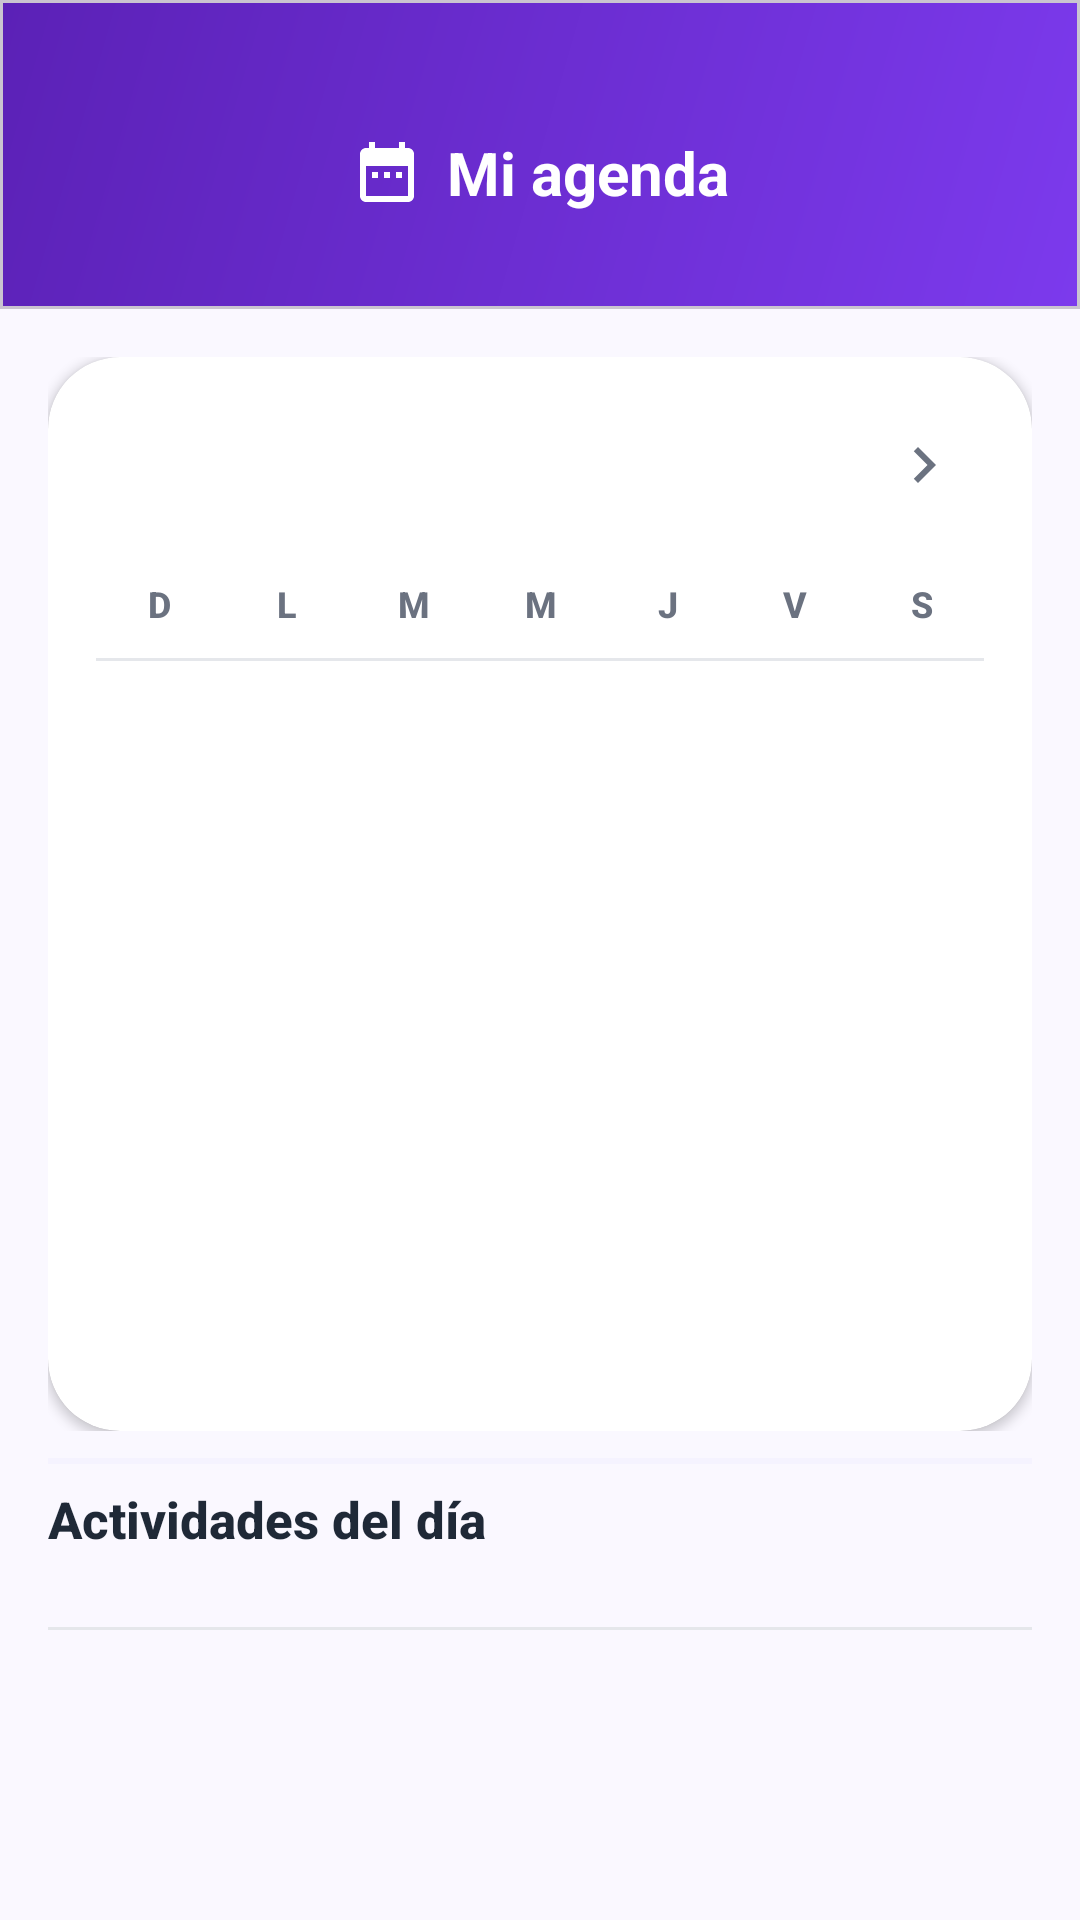

Icons on this 1080 x 1920 Android screen, each with the point to tap as (x,y):
Mes siguiente: (925,465)
